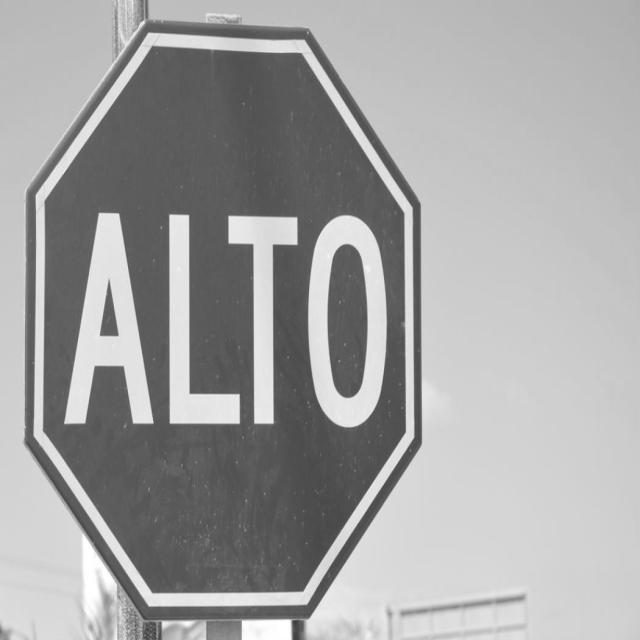Stop-sign: (11, 13, 440, 624)
